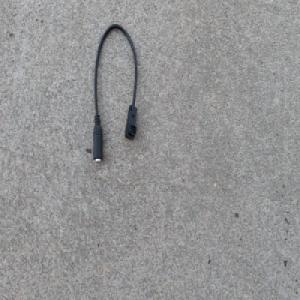Wire: (92, 22, 139, 165)
